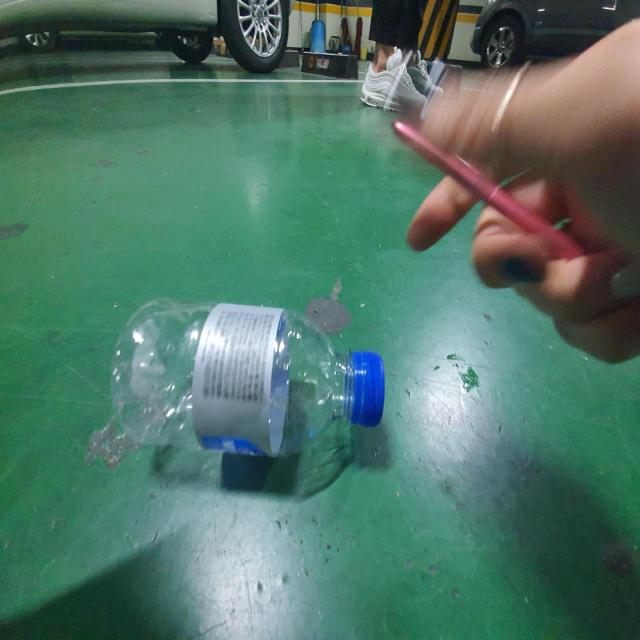plastic: (111, 299, 385, 457)
